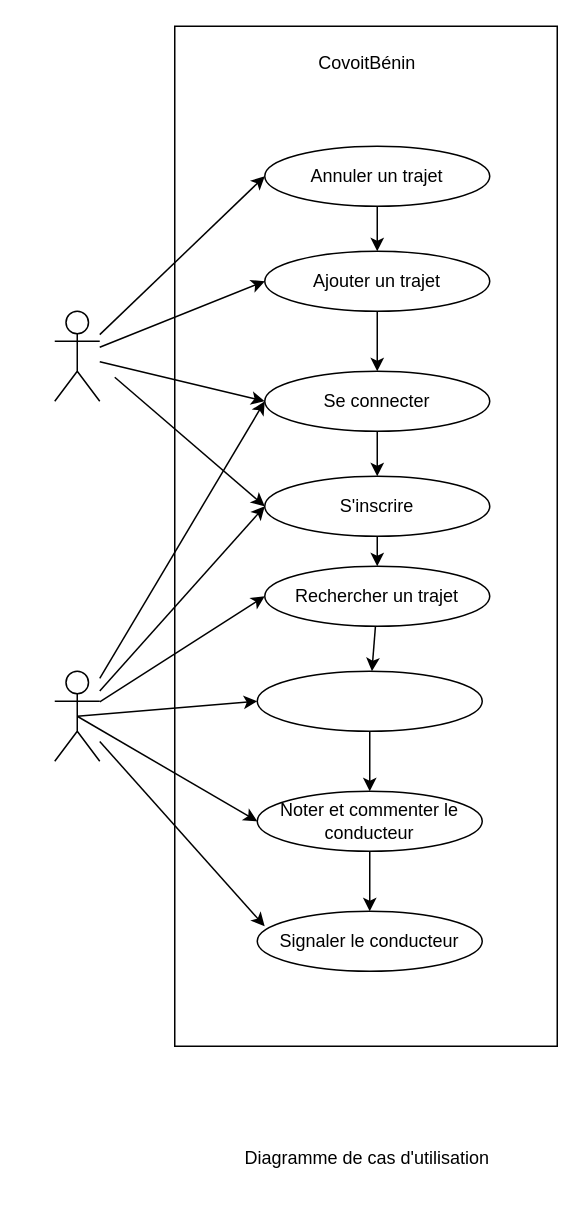
Image size: 584x1208. Some labels were removed from this diagram. The box of each missing label's shape, as (x1, y1, x2, y2) in pixels:
Conducteurs: (53, 310, 100, 401)
Confirmer un trajet: (256, 670, 482, 731)
Passagers: (53, 670, 100, 761)
